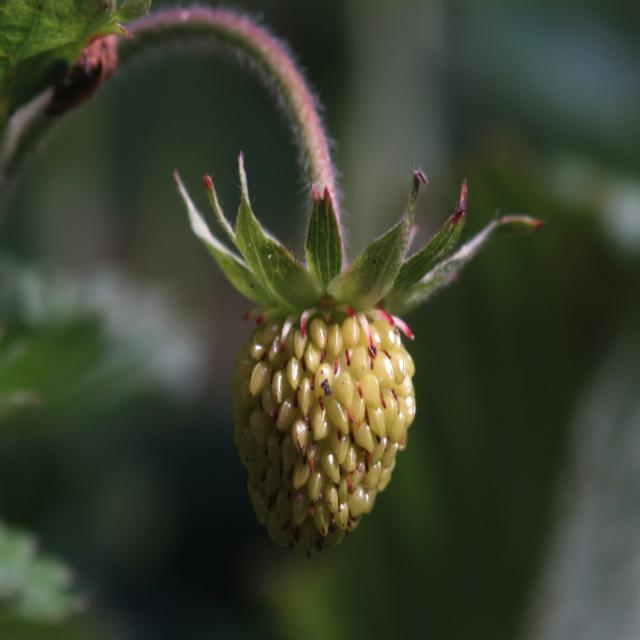immature: (236, 305, 414, 562)
